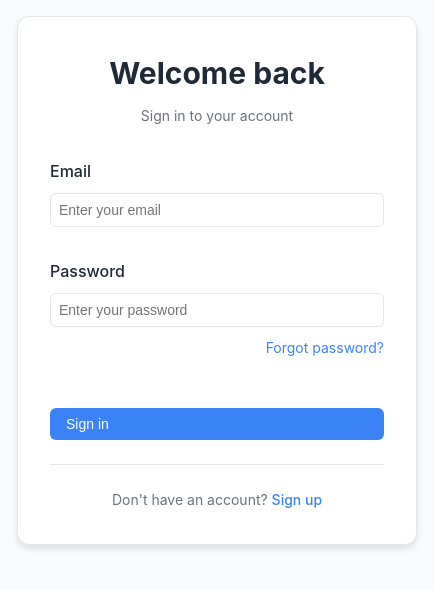
Test: Login Page › should validate email format
In the field labelled "Email": {"x": 217, "y": 210} [50,193,384,227], type "invalid-email"
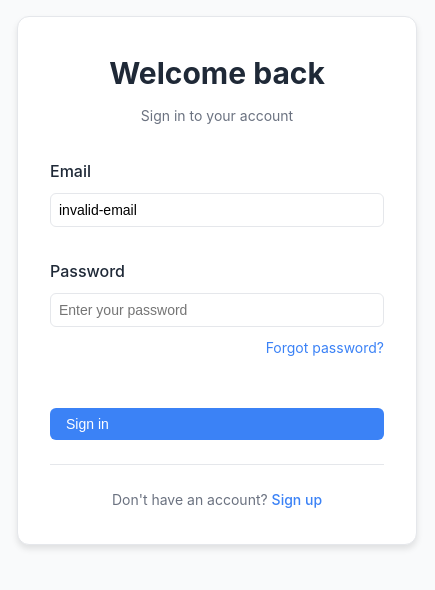
In the password field labelled "Password": {"x": 217, "y": 310} [50,293,384,327], type "password123"
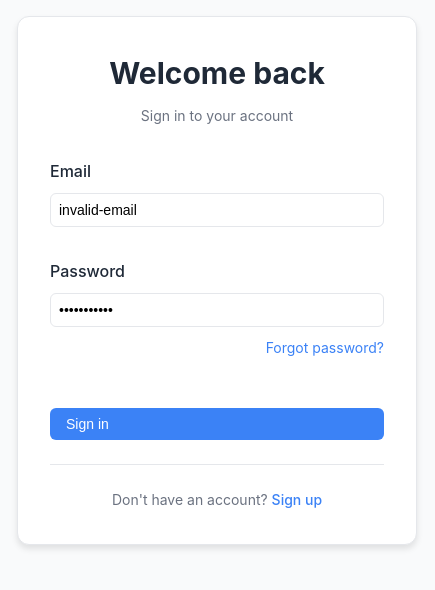
Submit the form "Sign in", box [50,159,384,440]
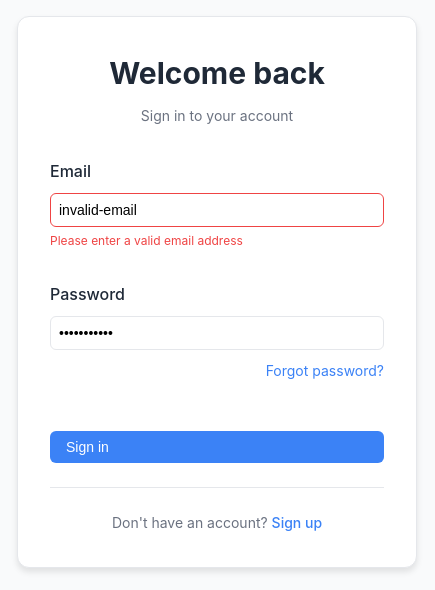
Expected: the text "Please enter a valid email address" is shown, [50,233,243,248]
